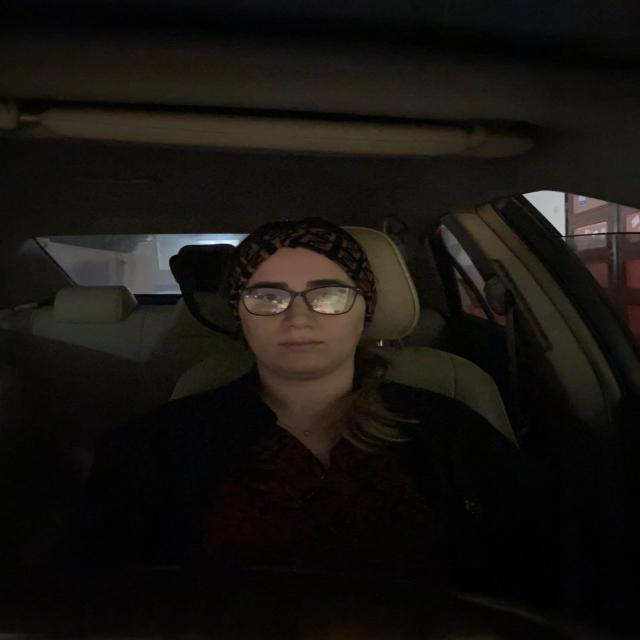person: (221, 216, 380, 379)
